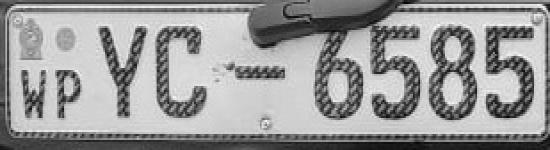-: (232, 62, 291, 86)
5: (365, 17, 426, 125), (481, 17, 540, 126), (425, 18, 482, 129)
6: (312, 19, 367, 126)
C: (155, 20, 211, 125)
P: (53, 66, 89, 123)
W: (14, 67, 52, 124)
Y: (95, 18, 153, 123)
